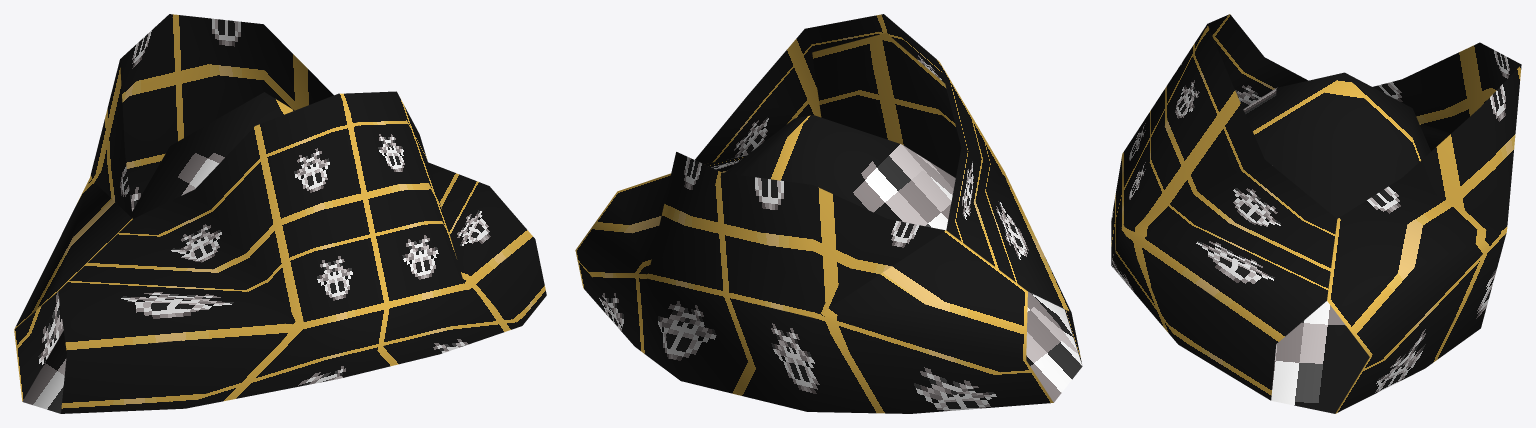
Rendered from code_head19.gltf.
3 renders of one model, left to right at view 1: azimuth 30°, elevation 25°; view 2: azimuth 150°, elevation 25°; view 3: azimuth 270°, elevation 25°, orthographic. The views are drawn at different scales.
Visible parts, largest first — view 1: code_head19; view 2: code_head19; view 3: code_head19.
Boxes of the visible parts, left/top/right/bottom form: code_head19: left=14, top=14, right=546, bottom=413; code_head19: left=575, top=14, right=1082, bottom=413; code_head19: left=1111, top=14, right=1521, bottom=413.
Bounding box in the file's own units: 0.8569 × 0.4958 × 0.6609.
1 material, 1 textured.
